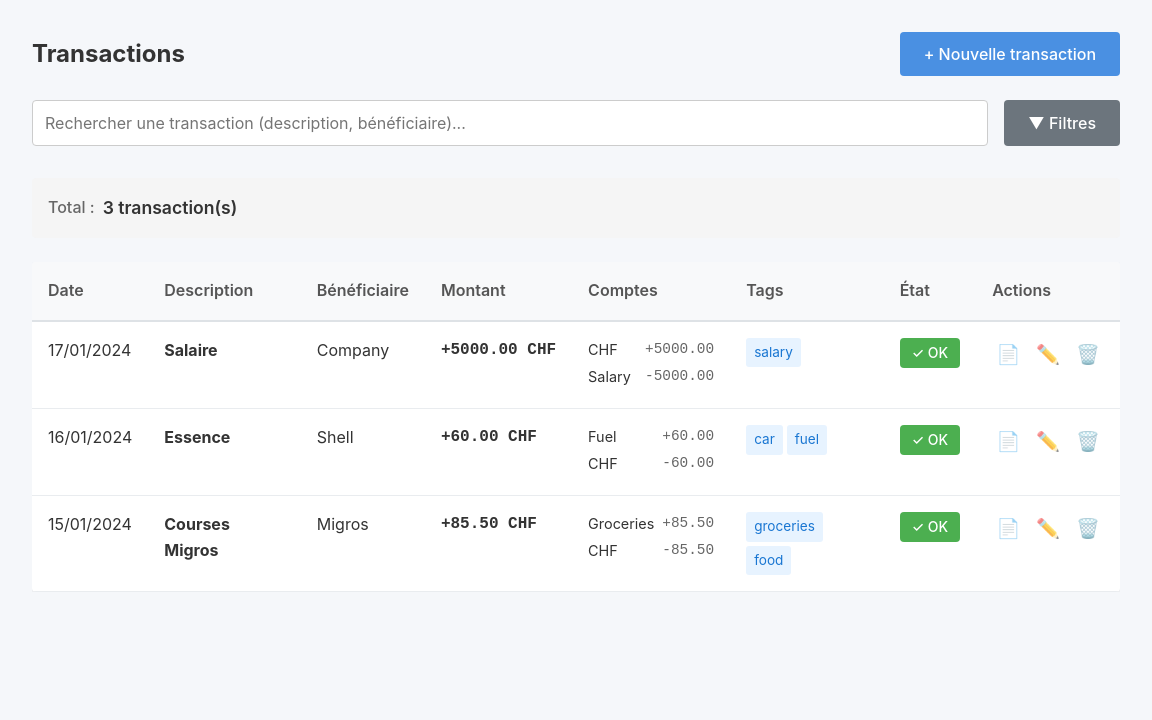
Test: TransactionList - Actions › devrait afficher le modal de confirmation de suppression
Click the button titled "Supprimer" in the row of "17/01/2024": {"x": 1088, "y": 354} [1072, 338, 1104, 370]
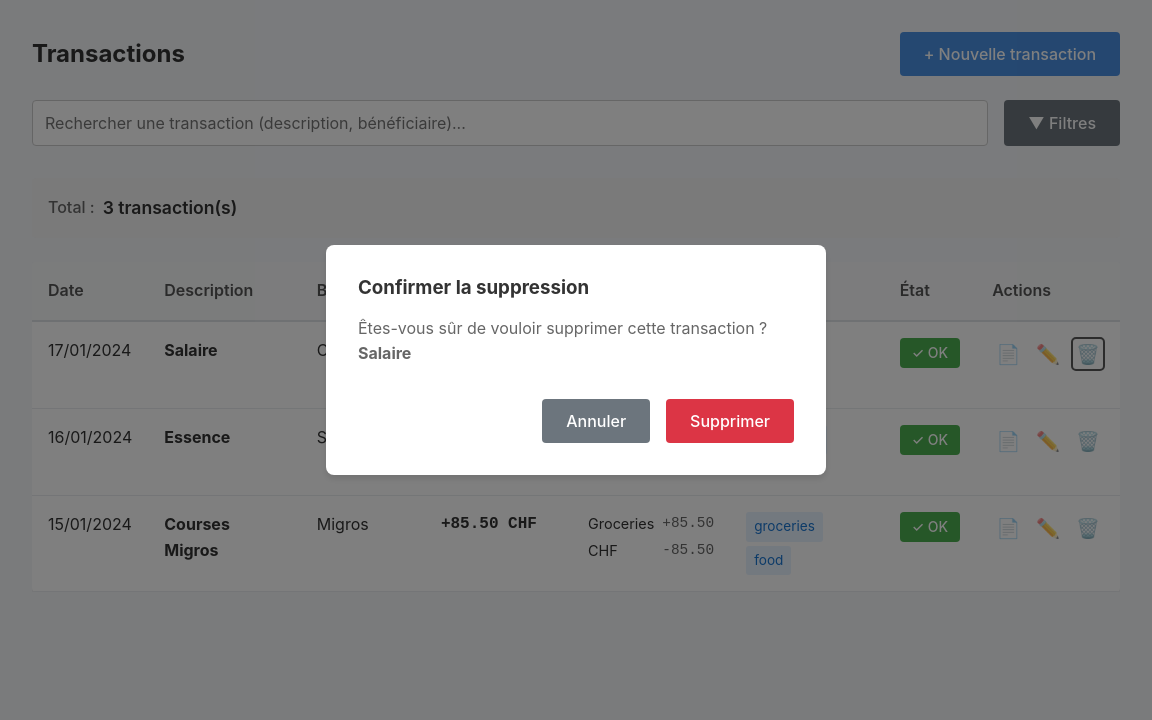
Expected: the text "Courses Migros" is shown, [164, 514, 230, 560]
Result: the heading "Confirmer la suppression" is shown at [358, 276, 589, 299]
